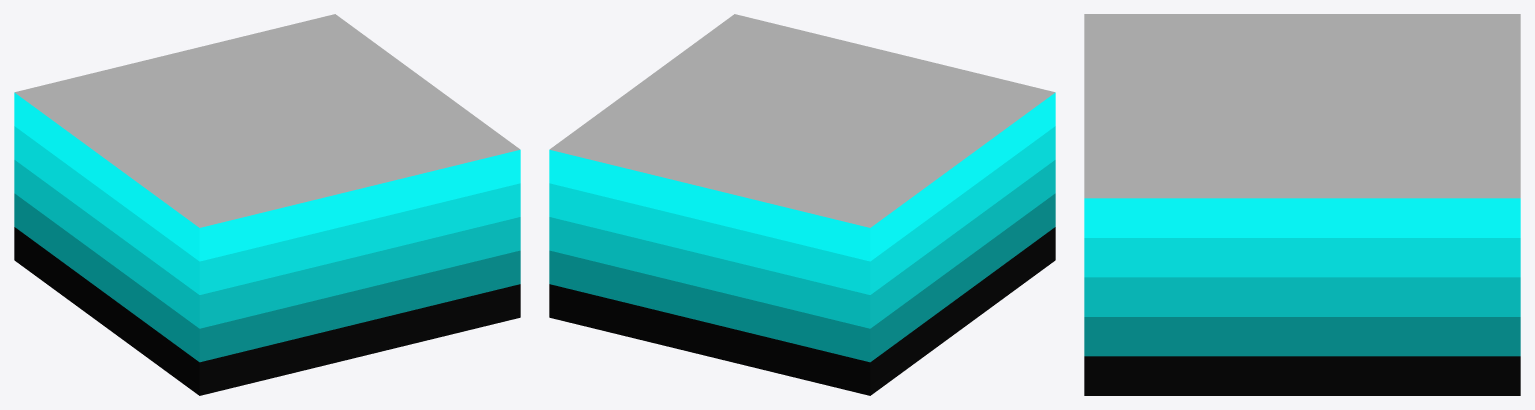
The model's file is emissive-box.glb.
The picture shows the model from 3 angles, left to right: view 1: azimuth 30°, elevation 25°; view 2: azimuth 150°, elevation 25°; view 3: azimuth 270°, elevation 25°; orthographic projection. The views are drawn at different scales.
Parts seen in each view (by area): view 1: Emissive Box; view 2: Emissive Box; view 3: Emissive Box.
Part boxes in pixels (x1,y1,x2,y2): Emissive Box: (14,14,520,395); Emissive Box: (549,14,1055,395); Emissive Box: (1084,14,1520,395).
Bounding box in the file's own units: 2 × 1 × 2.
